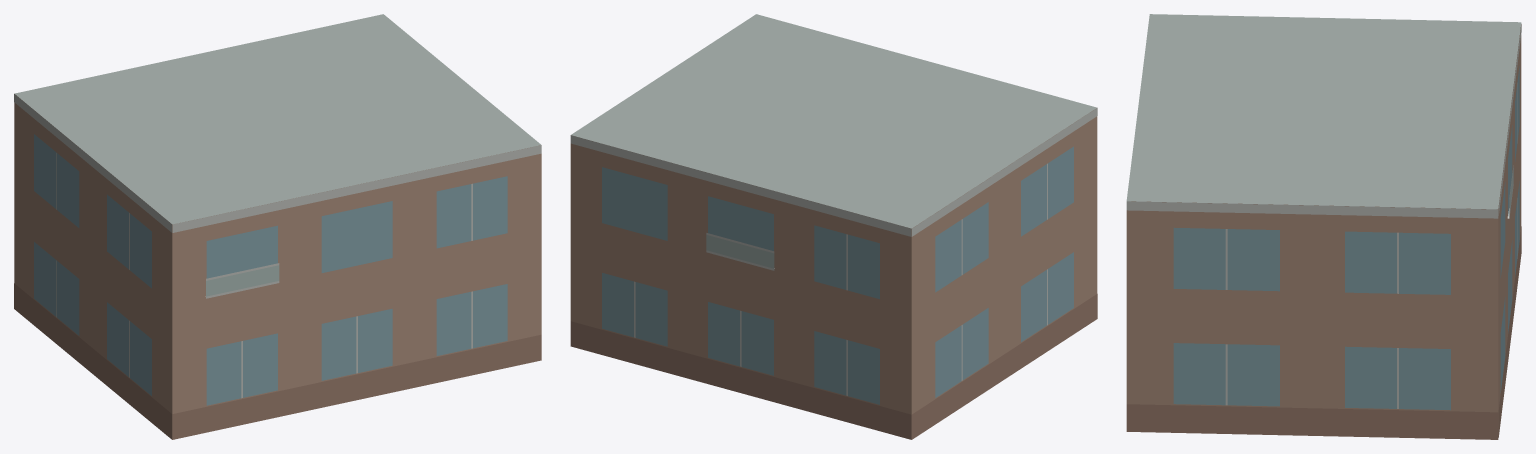
File: survey-upis-32686934.glb
3 renders of one model, left to right at view 1: azimuth 30°, elevation 25°; view 2: azimuth 150°, elevation 25°; view 3: azimuth 270°, elevation 25°, orthographic. The views are drawn at different scales.
Parts seen in each view (by area): view 1: survey-upis-32686934.tmp; view 2: survey-upis-32686934.tmp; view 3: survey-upis-32686934.tmp.
Part boxes in pixels (<box>): survey-upis-32686934.tmp: <box>14,14,541,439</box>; survey-upis-32686934.tmp: <box>570,14,1097,439</box>; survey-upis-32686934.tmp: <box>1126,14,1521,439</box>.
Size of the model in its own units: 11.1 by 6.1 by 9.48.
